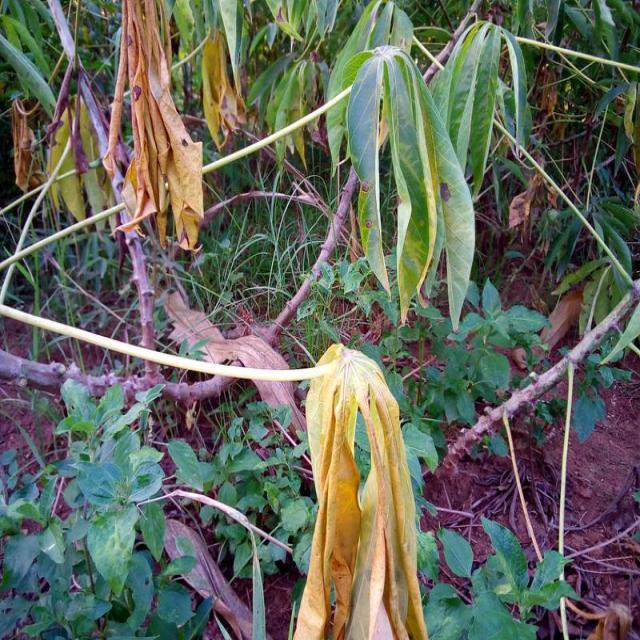cassava leaf: (292, 341, 428, 638), (345, 42, 475, 332)
